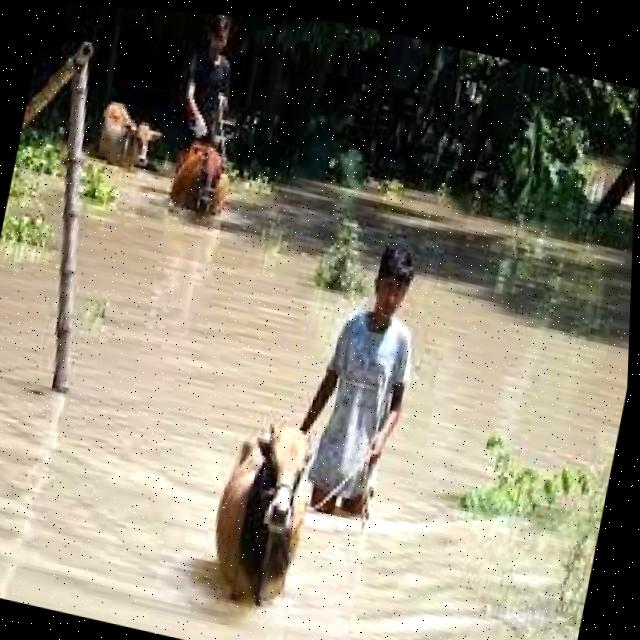civilian: (279, 210, 478, 557), (163, 11, 267, 161)
cow: (180, 407, 332, 621), (154, 126, 254, 236), (87, 91, 171, 189)
